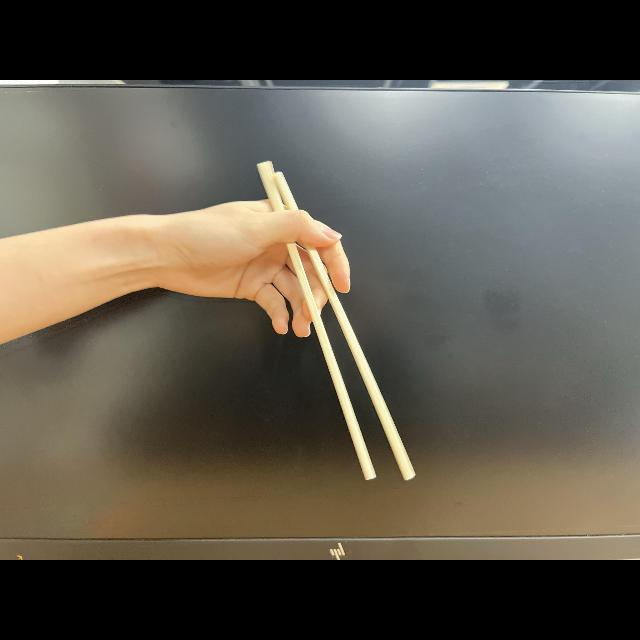stick: (167, 158, 417, 482)
